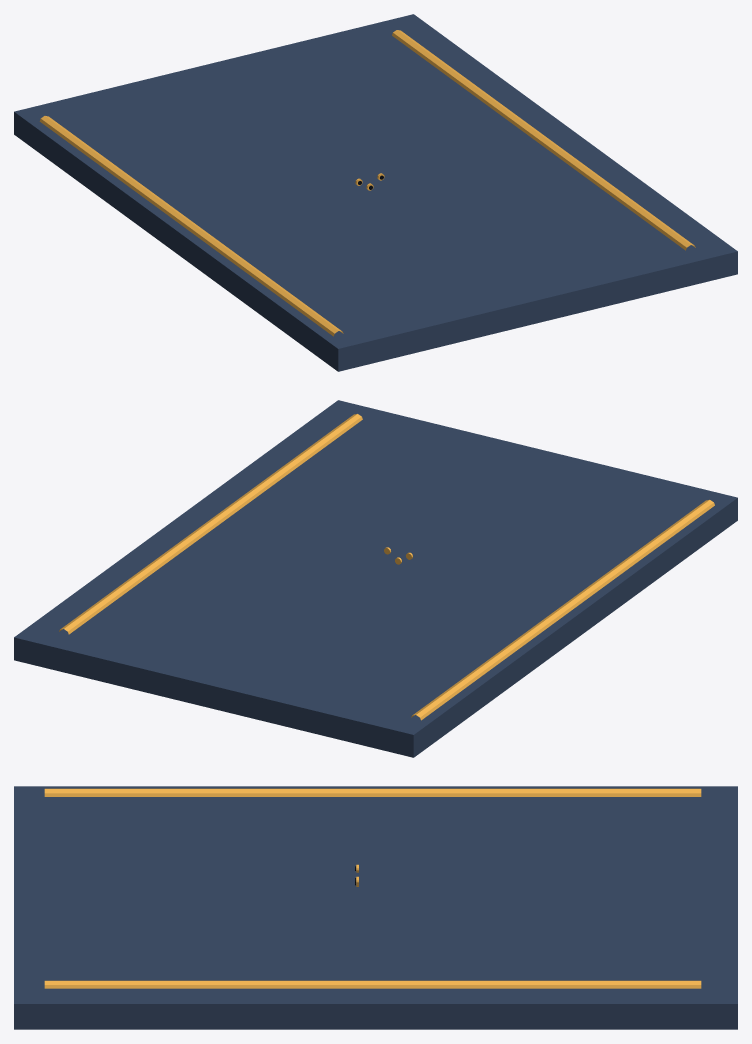
File: 12_L91_ClockTimingLaboratoryBase.fbx
3 renders of one model, top to bottom at view 1: azimuth 30°, elevation 25°; view 2: azimuth 150°, elevation 25°; view 3: azimuth 270°, elevation 25°, orthographic. The views are drawn at different scales.
Visible parts, largest first — view 1: L91_ClockTimingLaboratoryBase; view 2: L91_ClockTimingLaboratoryBase; view 3: L91_ClockTimingLaboratoryBase.
Part boxes in pixels (<box>): L91_ClockTimingLaboratoryBase: <box>14,14,737,371</box>; L91_ClockTimingLaboratoryBase: <box>14,400,737,757</box>; L91_ClockTimingLaboratoryBase: <box>14,786,737,1029</box>.
Size of the model in its own units: 840 by 75.5 by 1180.
